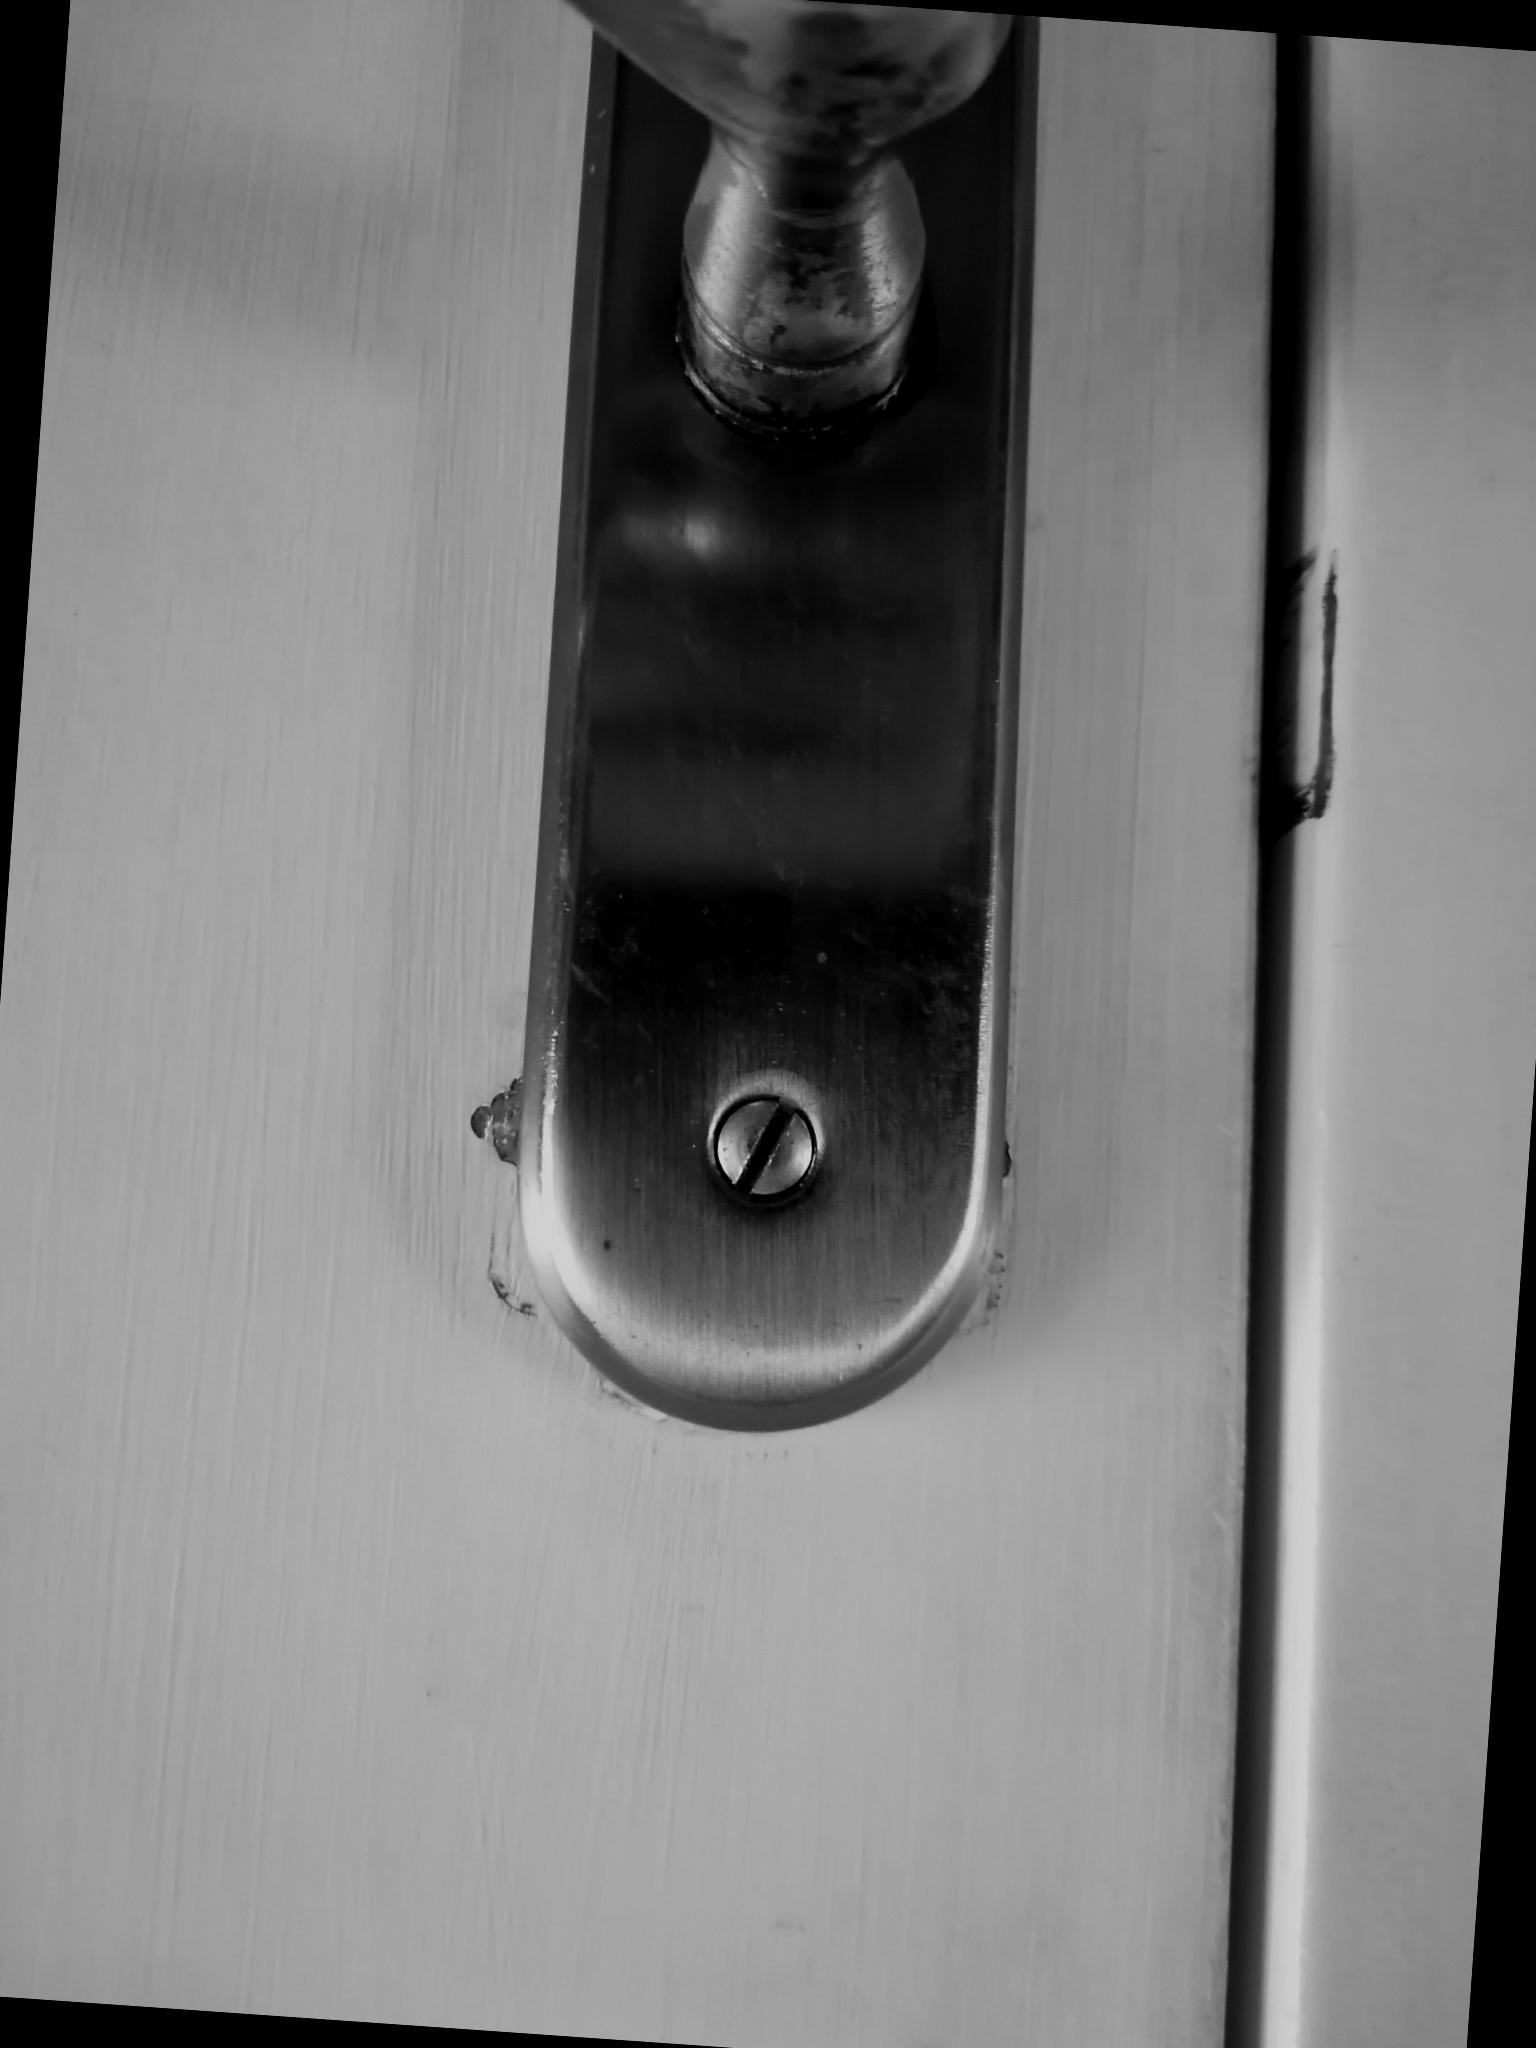slotted: (692, 1079, 836, 1211)
